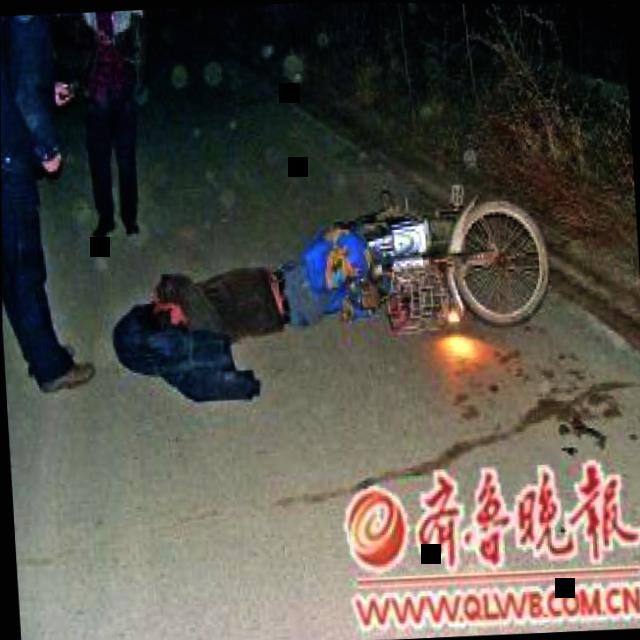Fall-Detected: (95, 182, 427, 422)
